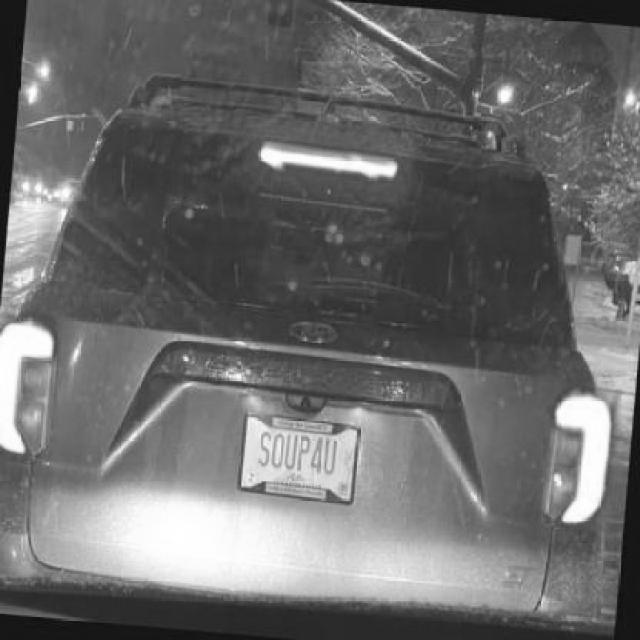licenseplate: (232, 409, 363, 506)
